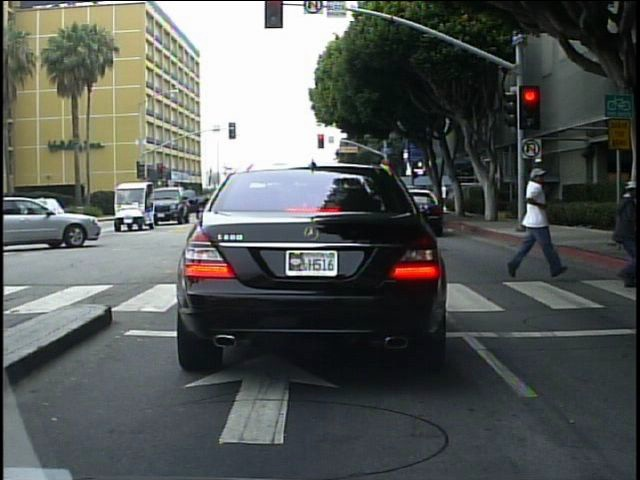person: (508, 167, 558, 286), (605, 166, 638, 294), (438, 179, 454, 214)
